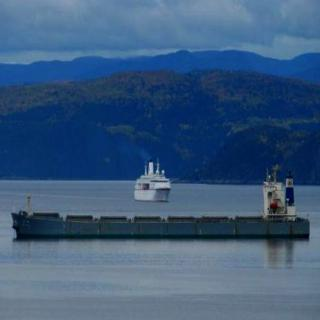Bulk Carrier: (2, 183, 320, 242)
